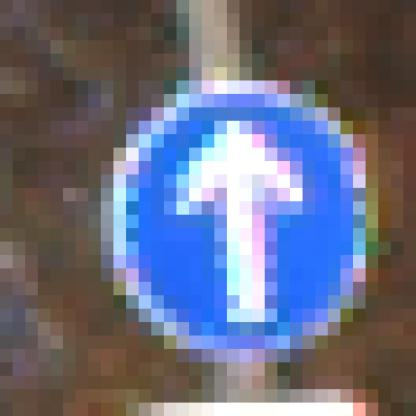AheadOnly: (77, 68, 341, 337)
